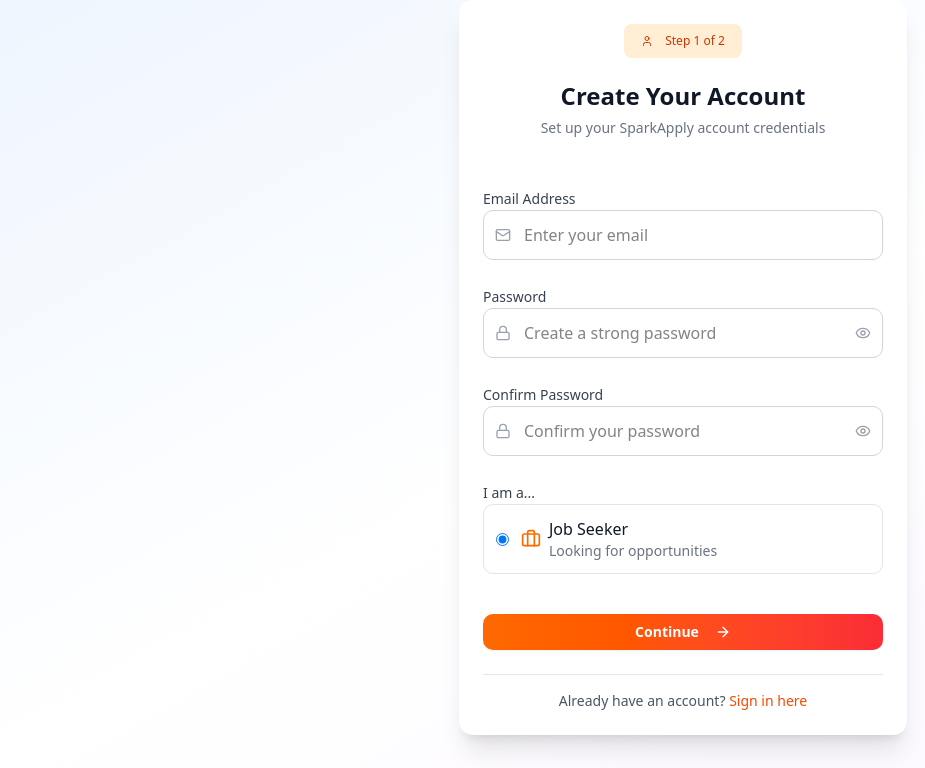
Test: RegisterForm › validates required fields in step 2
The width and height of the screenshot is (925, 768).
Type "test@example.com" into the field labelled "Email Address" at (683, 235), box x1=483 y1=210 x2=883 y2=260
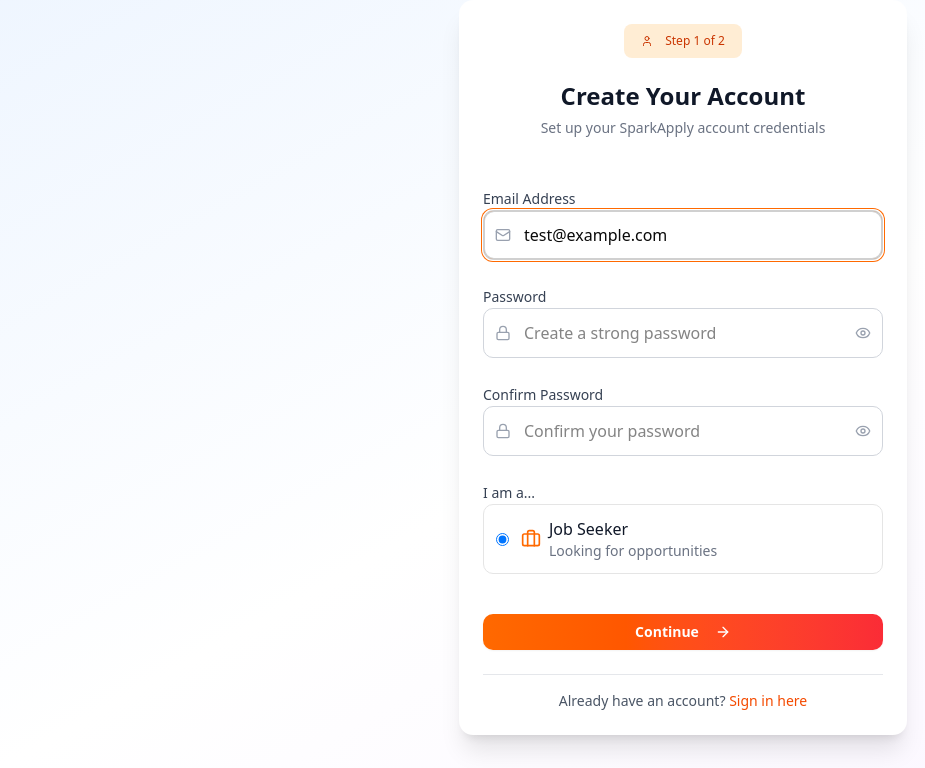
Type "Password123" into the password field labelled "Password" at (683, 333), box x1=483 y1=308 x2=883 y2=358
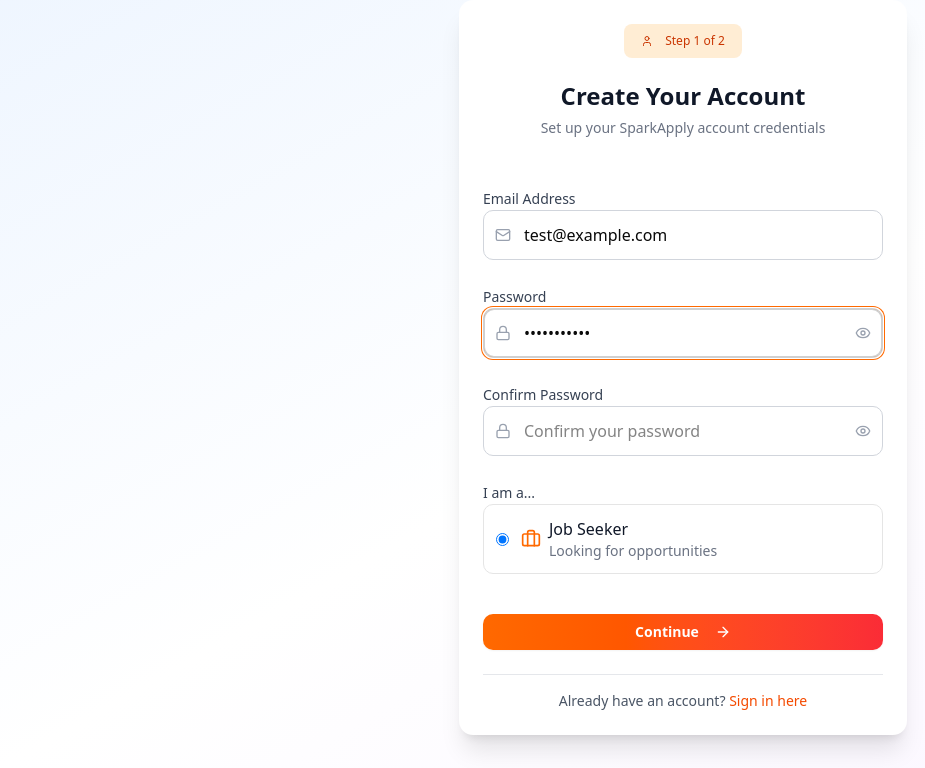
Type "Password123" into the password field labelled "Confirm Password" at (683, 431), box x1=483 y1=406 x2=883 y2=456
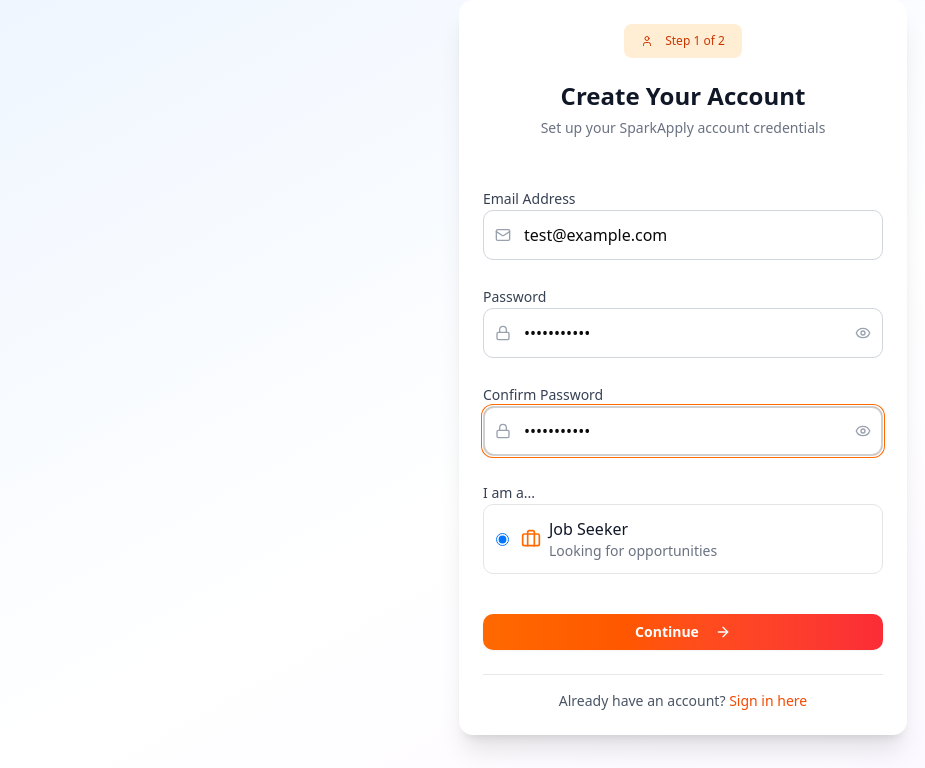
Click the button "Continue" at (683, 632), box x1=483 y1=614 x2=883 y2=650
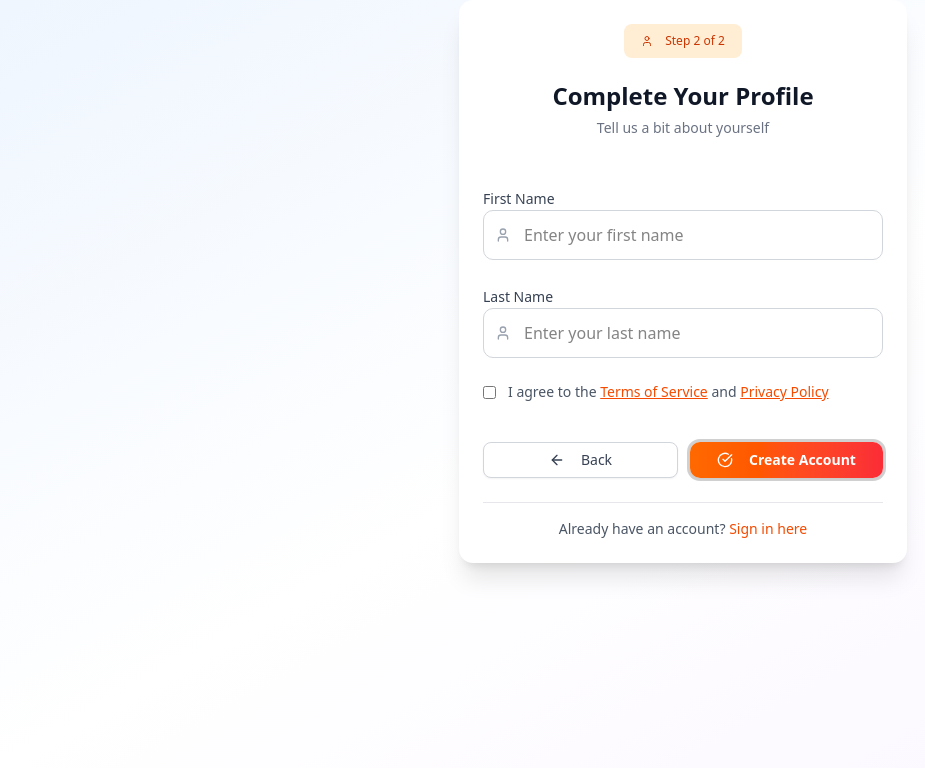
// Try to submit step 2 without required fields
Click the button "Create Account" at (786, 460), box x1=690 y1=442 x2=883 y2=478
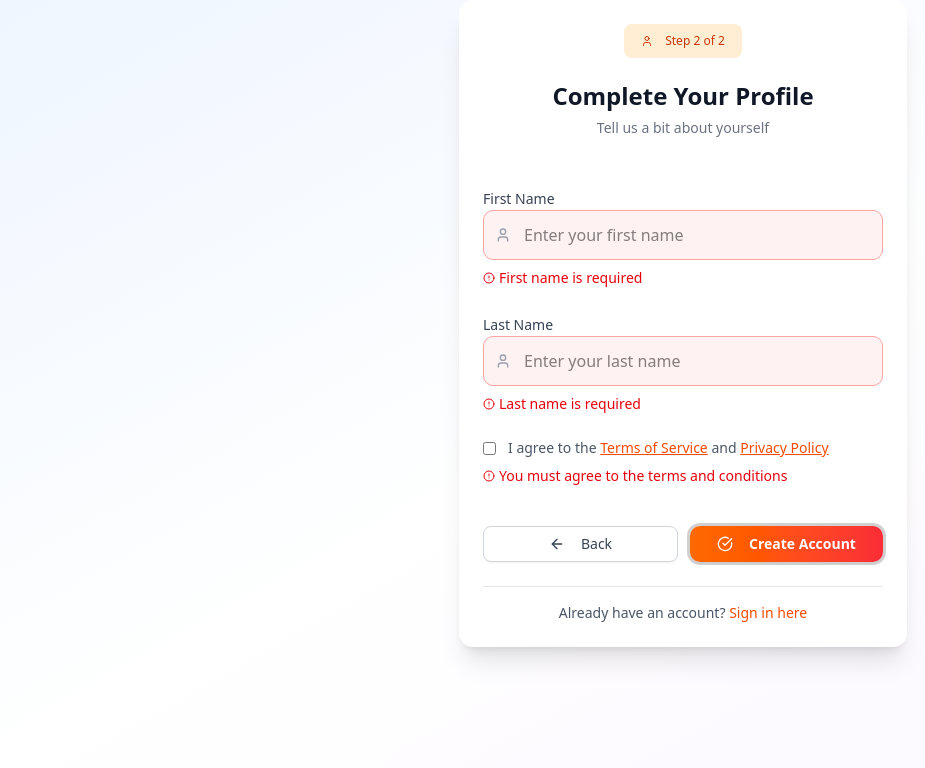
Expected: the text "First name is required" is shown, x1=483 y1=268 x2=642 y2=287
Expected: the text "Last name is required" is shown, x1=483 y1=394 x2=641 y2=413
